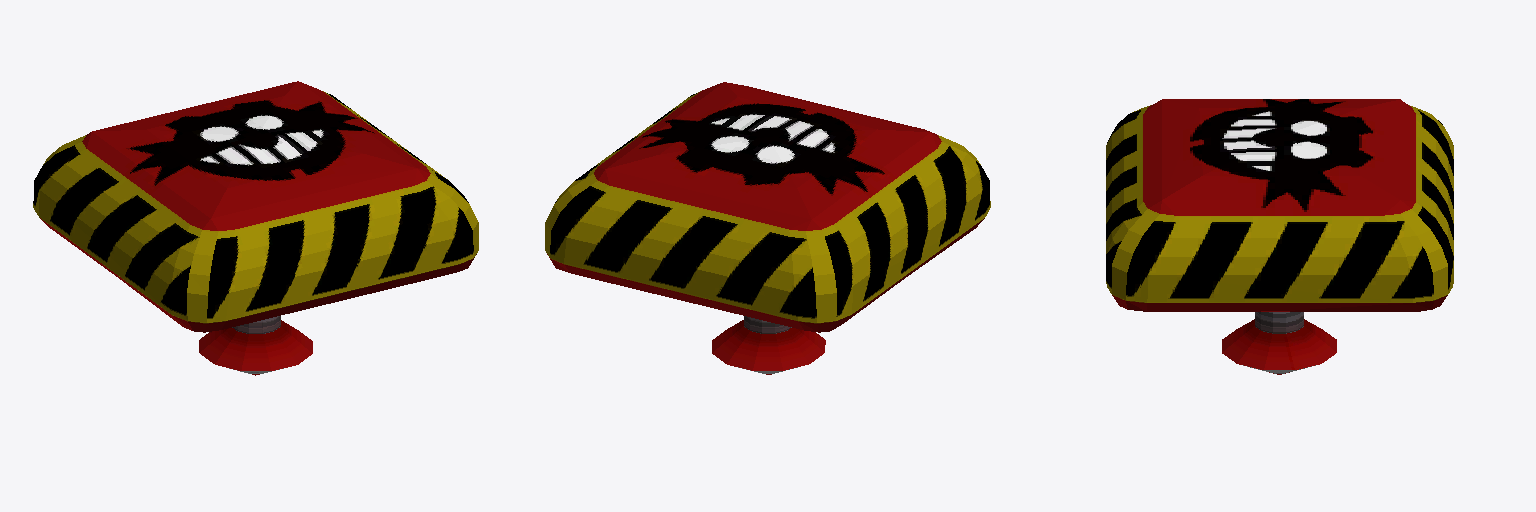
3 renders of one model, left to right at view 1: azimuth 30°, elevation 25°; view 2: azimuth 150°, elevation 25°; view 3: azimuth 270°, elevation 25°, orthographic.
Parts seen in each view (by area): view 1: cmn_obj_springegg_HD_cmn_obj_springegg_HD_mesh; view 2: cmn_obj_springegg_HD_cmn_obj_springegg_HD_mesh; view 3: cmn_obj_springegg_HD_cmn_obj_springegg_HD_mesh.
Boxes of the visible parts, box(x1,y1,x2,y2) form: cmn_obj_springegg_HD_cmn_obj_springegg_HD_mesh: box(33, 81, 478, 375); cmn_obj_springegg_HD_cmn_obj_springegg_HD_mesh: box(545, 82, 990, 374); cmn_obj_springegg_HD_cmn_obj_springegg_HD_mesh: box(1106, 99, 1453, 374).
Bounding box in the file's own units: 1.19 × 0.9008 × 1.19.
Materials: 2 (2 with a texture image).